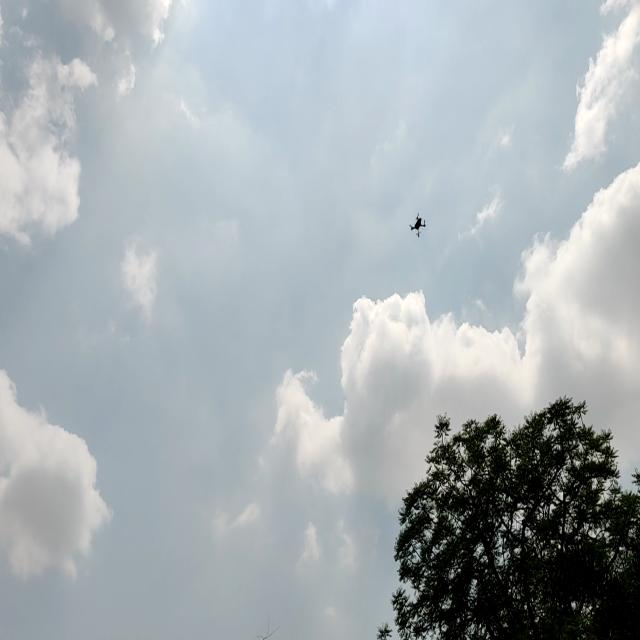drone: (411, 209, 431, 244)
